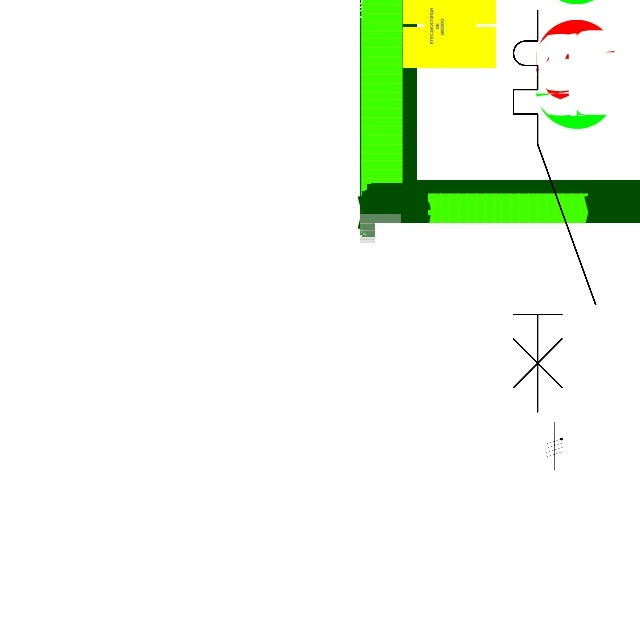interruptor_termomagnetico: (503, 0, 606, 422)
